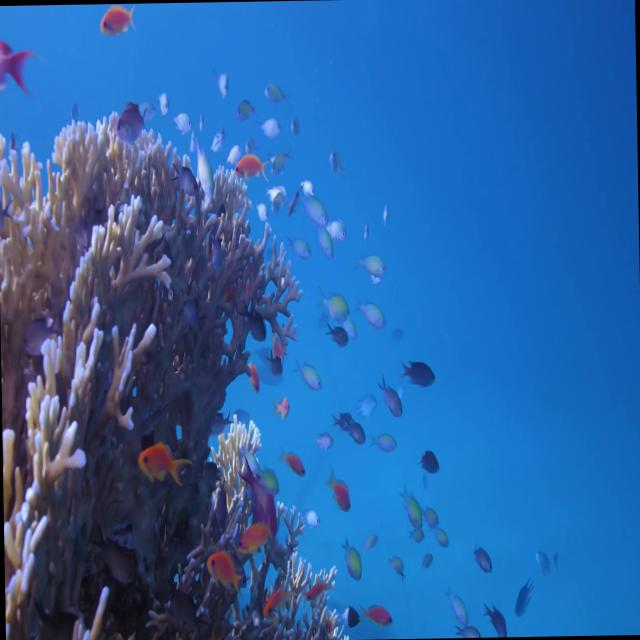fish: (134, 432, 192, 492), (0, 27, 41, 111), (204, 535, 246, 601), (237, 514, 290, 562), (246, 448, 276, 521), (370, 371, 410, 425), (508, 566, 544, 624), (187, 137, 216, 207), (109, 96, 147, 148), (258, 578, 304, 619), (336, 530, 369, 586), (324, 459, 354, 518), (94, 3, 140, 41), (366, 418, 406, 459), (358, 584, 395, 628), (225, 89, 262, 131), (300, 567, 336, 609), (315, 284, 349, 328), (403, 472, 425, 540), (444, 582, 476, 628), (256, 76, 288, 122), (400, 354, 438, 392), (352, 298, 388, 338), (228, 143, 268, 178), (292, 352, 323, 397), (255, 450, 289, 491), (306, 185, 332, 238), (275, 447, 308, 488), (482, 596, 514, 638), (322, 315, 352, 359), (414, 438, 446, 478), (359, 247, 390, 286), (284, 223, 311, 266), (322, 136, 346, 181), (317, 222, 343, 262), (528, 542, 555, 578), (342, 413, 368, 450), (451, 609, 484, 638), (266, 389, 294, 423), (337, 592, 362, 630), (326, 208, 349, 248), (213, 59, 233, 104), (471, 540, 494, 578), (148, 86, 170, 125), (259, 114, 285, 146), (167, 109, 194, 138), (359, 386, 380, 418)
